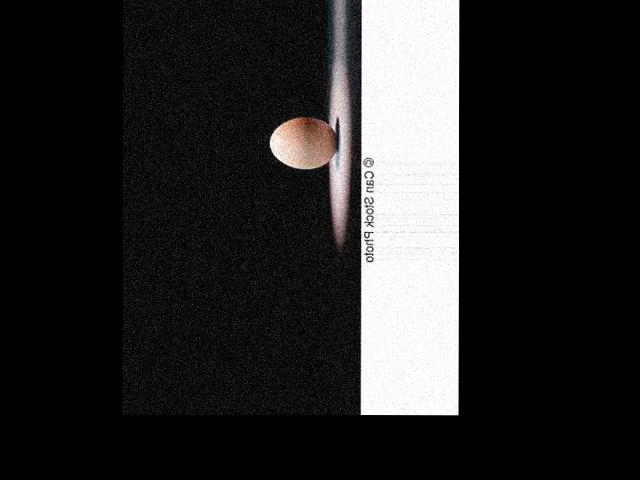egg: (270, 115, 338, 169)
